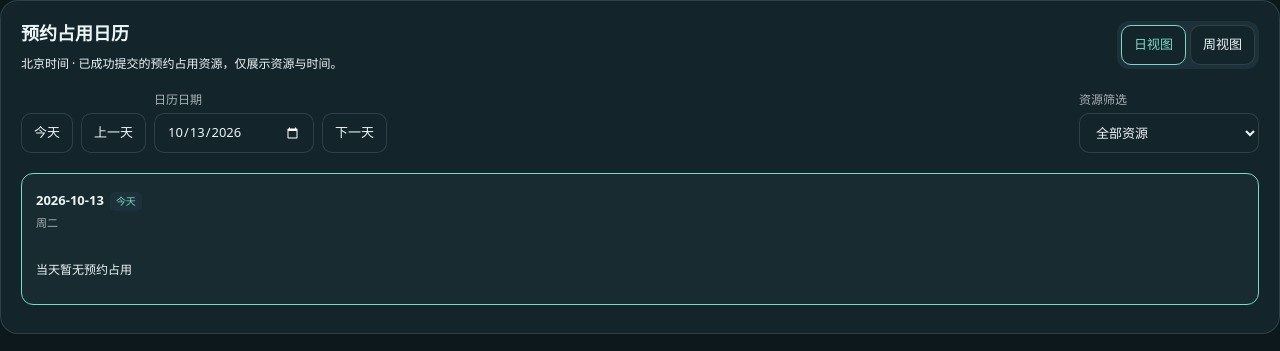
it: booking occupancy calendar › selects Shanghai today and returns to it after navigating
Expected: the date field labelled "日历日期" holds "2026-10-13", [154,113,314,153]
Expected: the text "今天" is shown, [110,192,142,211]
Click the button "下一天". click: (354, 133)
box: [322,113,387,153]
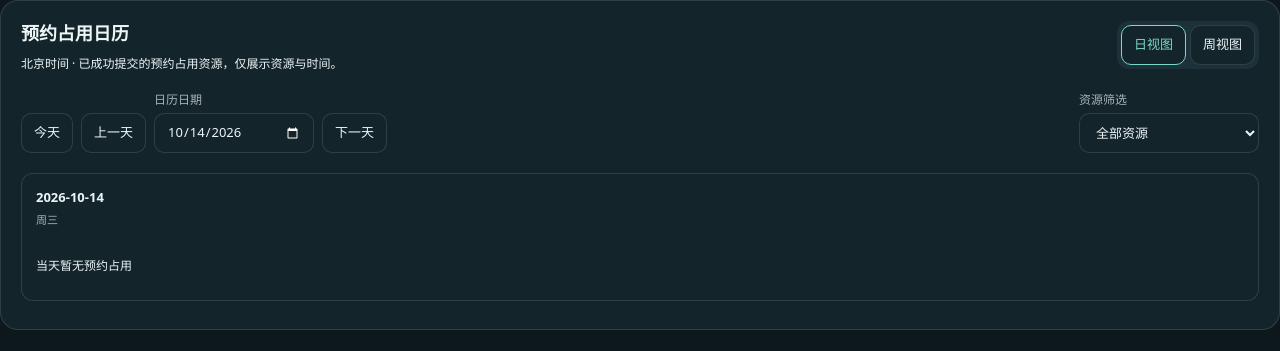
Expected: the date field labelled "日历日期" holds "2026-10-14", [154,113,314,153]
Click the button "今天". click: (47, 133)
box: [21,113,73,153]
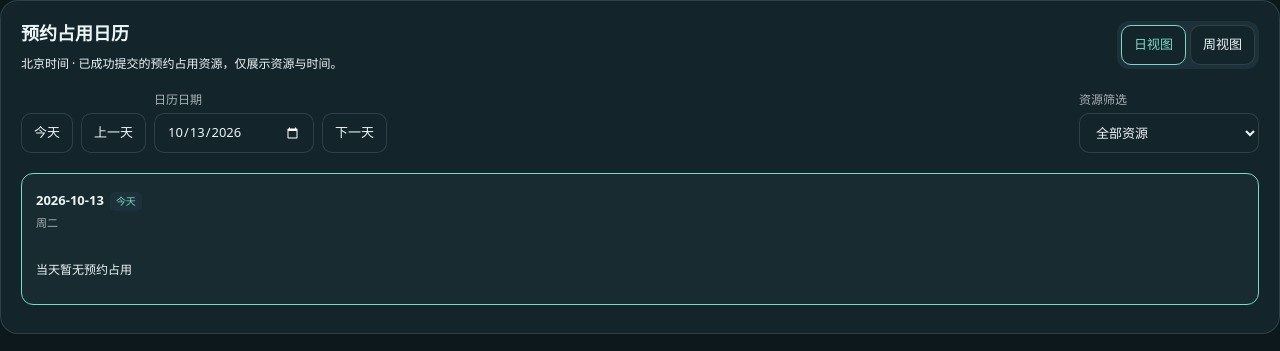
Expected: the date field labelled "日历日期" holds "2026-10-13", [154,113,314,153]
